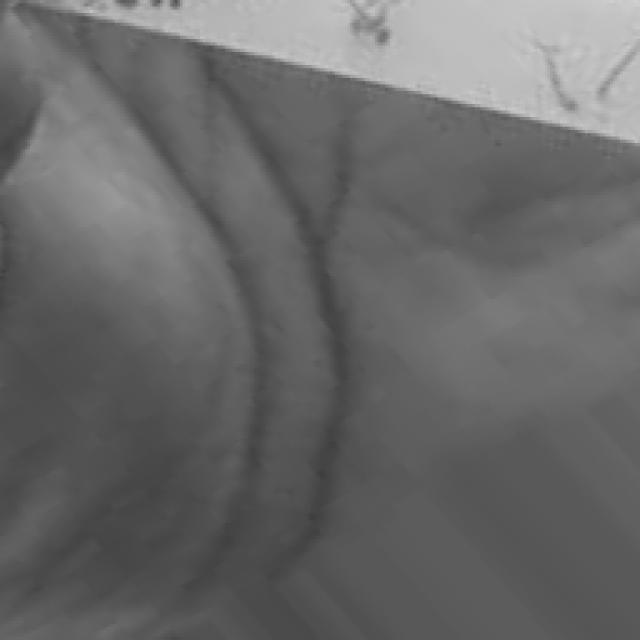larvas: (599, 36, 640, 98), (541, 46, 576, 113), (352, 0, 393, 47), (351, 22, 363, 34)
